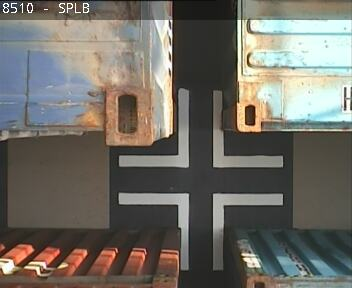groundmarker_1: (117, 91, 283, 167), (119, 192, 284, 268)
